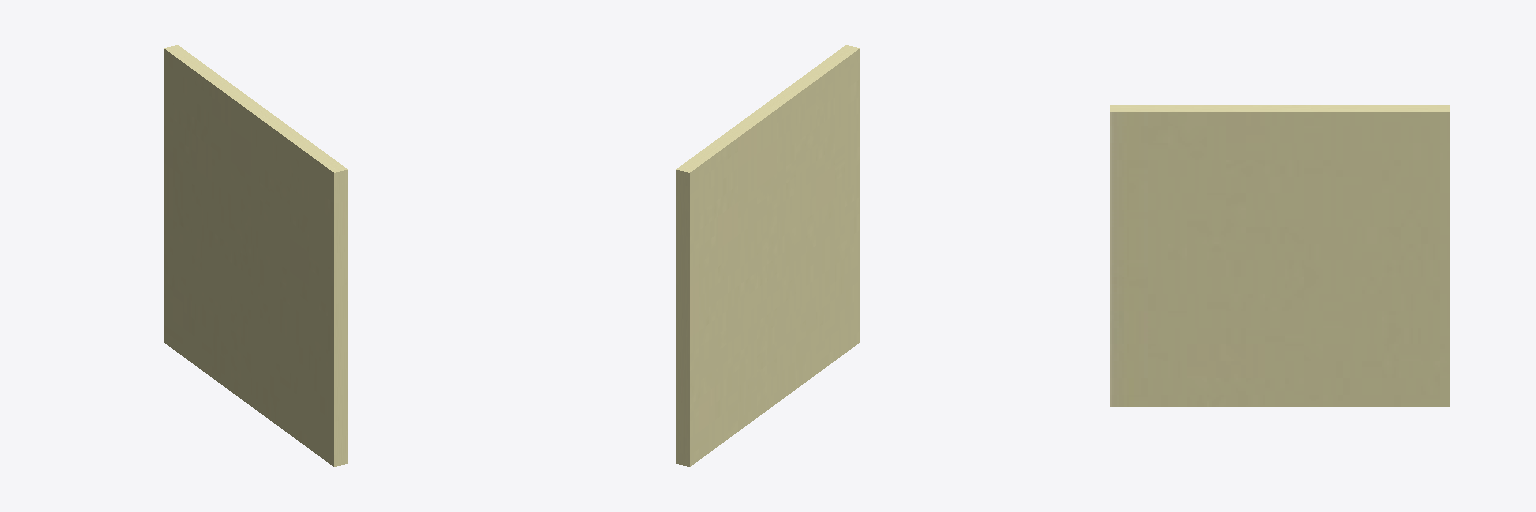
The picture shows the model from 3 angles: view 1: azimuth 30°, elevation 25°; view 2: azimuth 150°, elevation 25°; view 3: azimuth 270°, elevation 25°; orthographic projection.
Parts seen in each view (by area): view 1: parede_12_Cube.010; view 2: parede_12_Cube.010; view 3: parede_12_Cube.010.
Part boxes in pixels (left/top/right/bottom): parede_12_Cube.010: left=164, top=45, right=347, bottom=466; parede_12_Cube.010: left=676, top=45, right=859, bottom=466; parede_12_Cube.010: left=1110, top=105, right=1449, bottom=406.
Size of the model in its own units: 0.2 by 4 by 4.2.
1 materials, 1 textured.